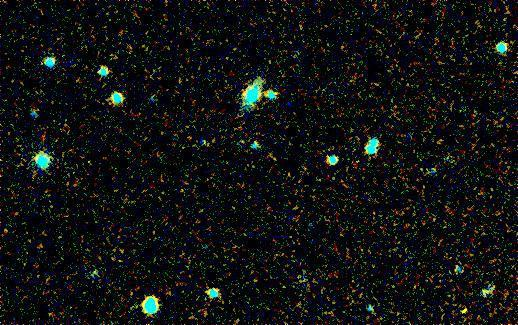star: (450, 295, 480, 325)
